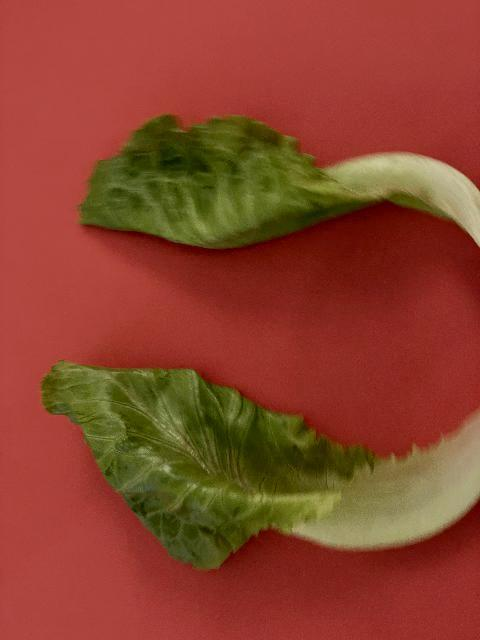lettuce: (40, 356, 480, 570), (78, 110, 480, 256)
